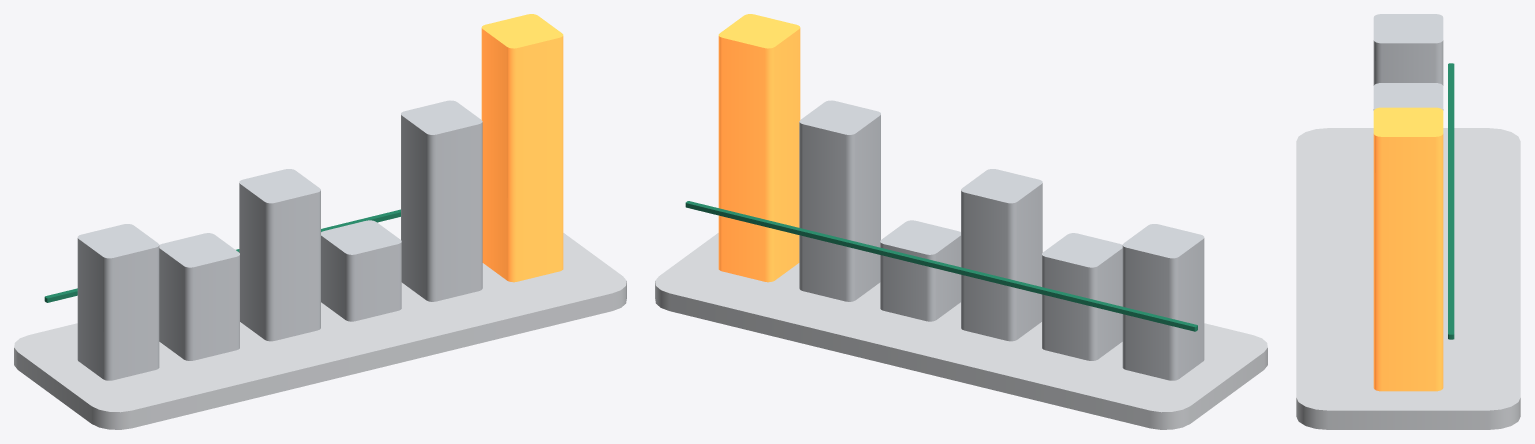
The model's file is prop-bars.glb.
The picture shows the model from 3 angles, left to right: view 1: azimuth 30°, elevation 25°; view 2: azimuth 150°, elevation 25°; view 3: azimuth 270°, elevation 25°; orthographic projection. The views are drawn at different scales.
Visible parts, largest first — view 1: RE_Prop_Bars; view 2: RE_Prop_Bars; view 3: RE_Prop_Bars.
Boxes of the visible parts, x1,y1,x2,y2 form: RE_Prop_Bars: (14,14,626,429); RE_Prop_Bars: (655,14,1267,429); RE_Prop_Bars: (1296,14,1520,429).
Size of the model in its own units: 2.5 by 1.13 by 0.84.
